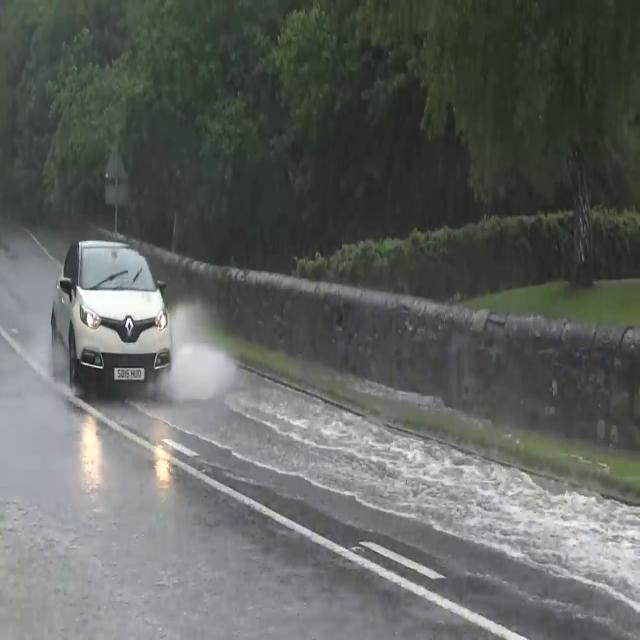license-plate-annotation: (114, 363, 148, 383)
